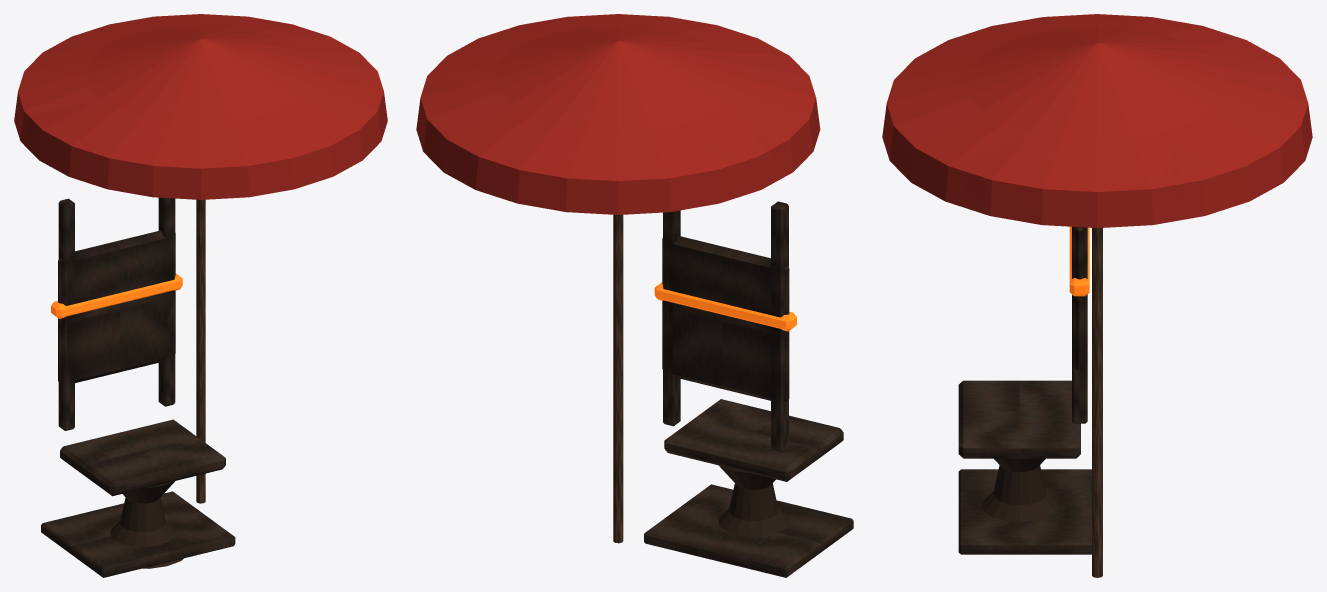
The model's file is az-throne.glb.
3 views of the same model, side by side, from view 1: azimuth 30°, elevation 25°; view 2: azimuth 150°, elevation 25°; view 3: azimuth 270°, elevation 25° (orthographic). The views are drawn at different scales.
Parts seen in each view (by area): view 1: az-throne_az_enamel_red, az-throne_az_wood_dark, az-throne_az_wood, az-throne_az_orange; view 2: az-throne_az_enamel_red, az-throne_az_wood_dark, az-throne_az_wood, az-throne_az_orange; view 3: az-throne_az_enamel_red, az-throne_az_wood_dark, az-throne_az_wood, az-throne_az_orange.
Boxes of the visible parts, x1,y1,x2,y2 form: az-throne_az_enamel_red: [14, 14, 387, 199]; az-throne_az_wood_dark: [41, 197, 235, 577]; az-throne_az_wood: [196, 199, 205, 503]; az-throne_az_orange: [51, 273, 182, 318]; az-throne_az_enamel_red: [416, 14, 820, 214]; az-throne_az_wood_dark: [644, 201, 853, 577]; az-throne_az_wood: [613, 214, 623, 543]; az-throne_az_orange: [654, 282, 796, 331]; az-throne_az_enamel_red: [882, 14, 1312, 228]; az-throne_az_wood_dark: [958, 226, 1091, 554]; az-throne_az_wood: [1092, 228, 1102, 577]; az-throne_az_orange: [1069, 226, 1089, 296].
Size of the model in its own units: 1.94 by 2.65 by 1.94.
4 materials, 2 textured.
